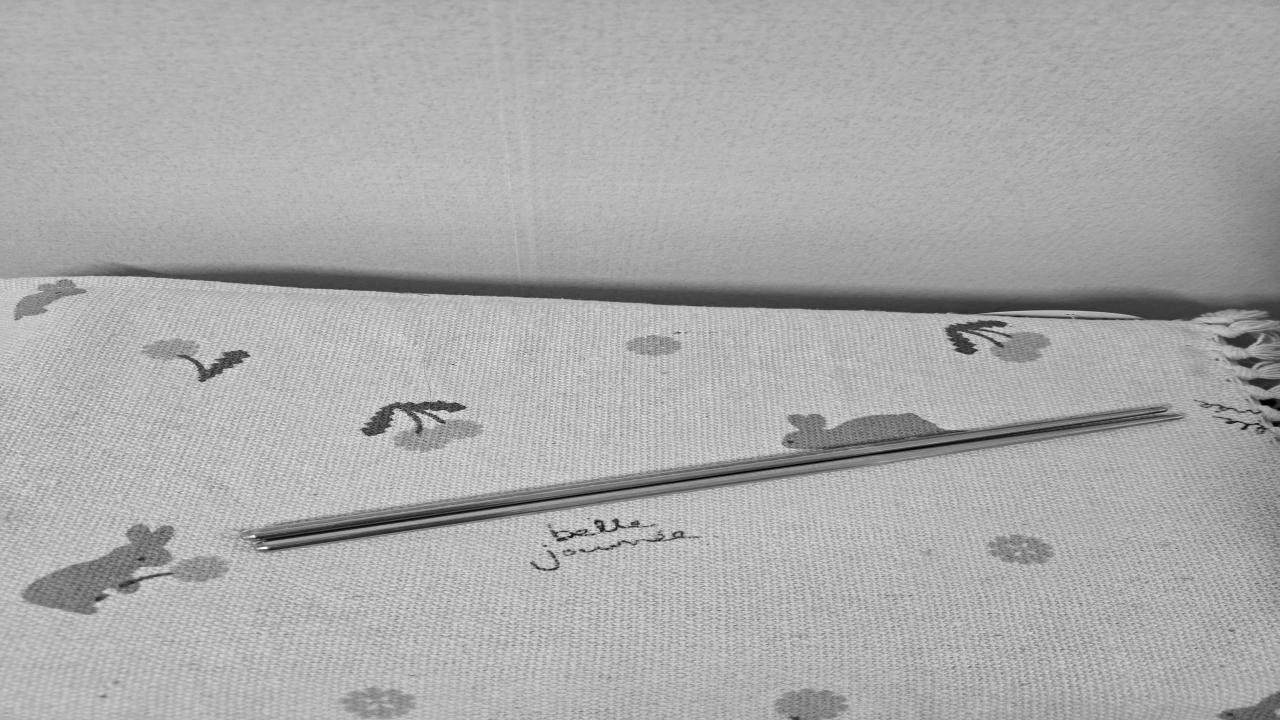chopstick: (234, 398, 1194, 560)
